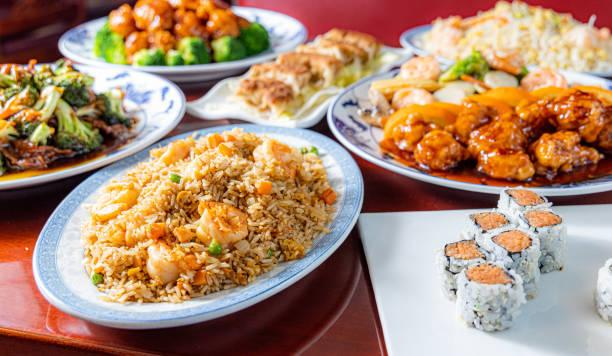Braised Crucian Carp: (32, 118, 368, 328), (354, 202, 611, 354), (332, 64, 609, 196), (0, 61, 188, 190), (54, 0, 313, 84), (185, 30, 414, 123)
